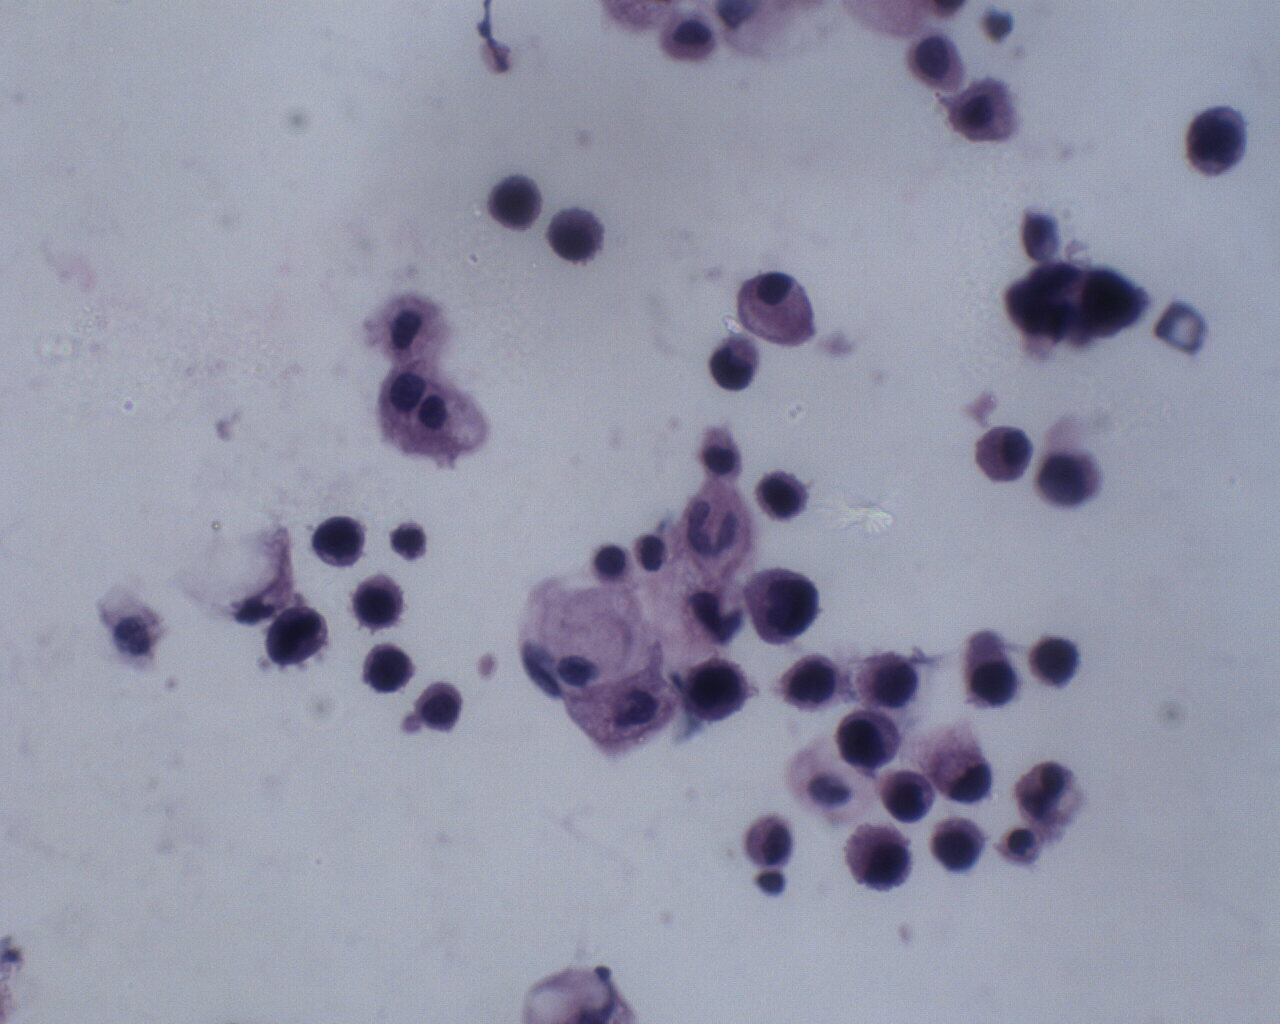ab: (747, 564, 825, 648), (1185, 100, 1254, 182), (262, 603, 335, 670), (843, 822, 916, 889), (682, 656, 750, 724), (850, 646, 921, 711), (835, 707, 903, 771), (544, 206, 610, 270), (779, 650, 845, 712), (930, 814, 993, 872), (350, 573, 411, 631), (878, 764, 935, 822), (309, 512, 369, 568), (489, 174, 549, 231), (753, 466, 812, 522), (1028, 630, 1085, 688), (362, 641, 418, 697), (414, 680, 465, 731)
histo: (738, 269, 821, 352)
meso: (944, 77, 1018, 152), (976, 419, 1035, 490)
